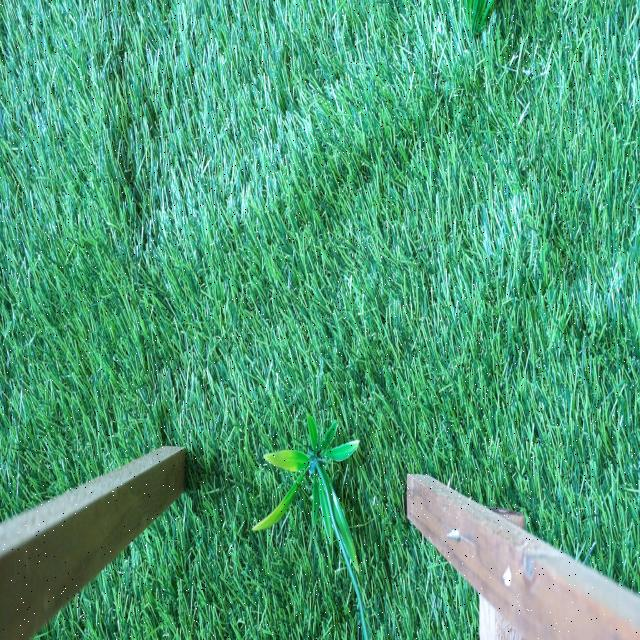base: (253, 410, 361, 570), (466, 0, 494, 34)
